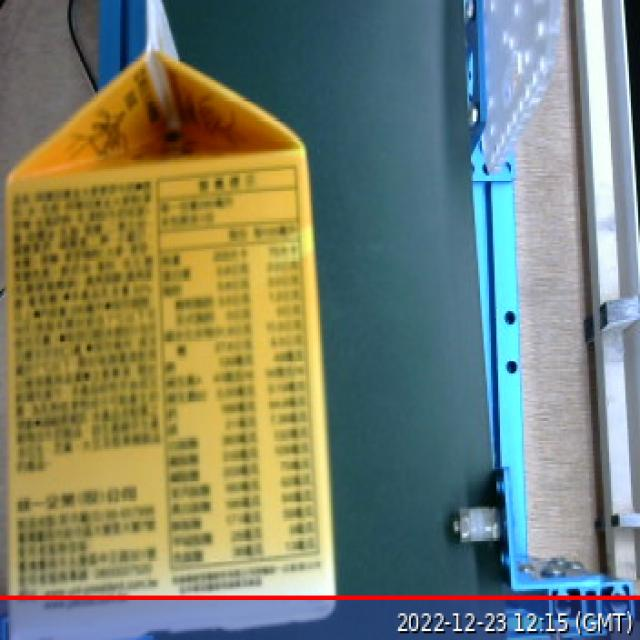non_white_jug: (0, 4, 355, 635)
